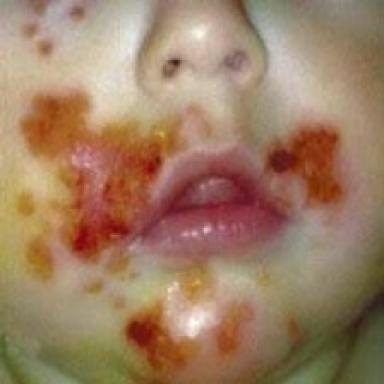Impetigo: (16, 90, 220, 310), (113, 259, 305, 384), (261, 124, 350, 215), (19, 0, 92, 60)
